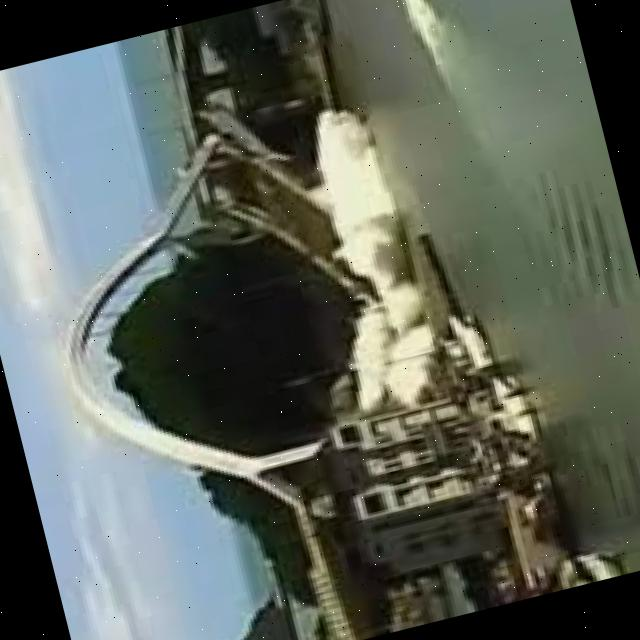bridge collapse: (19, 68, 549, 597)
